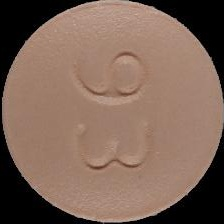66336-560: (0, 0, 224, 224)
